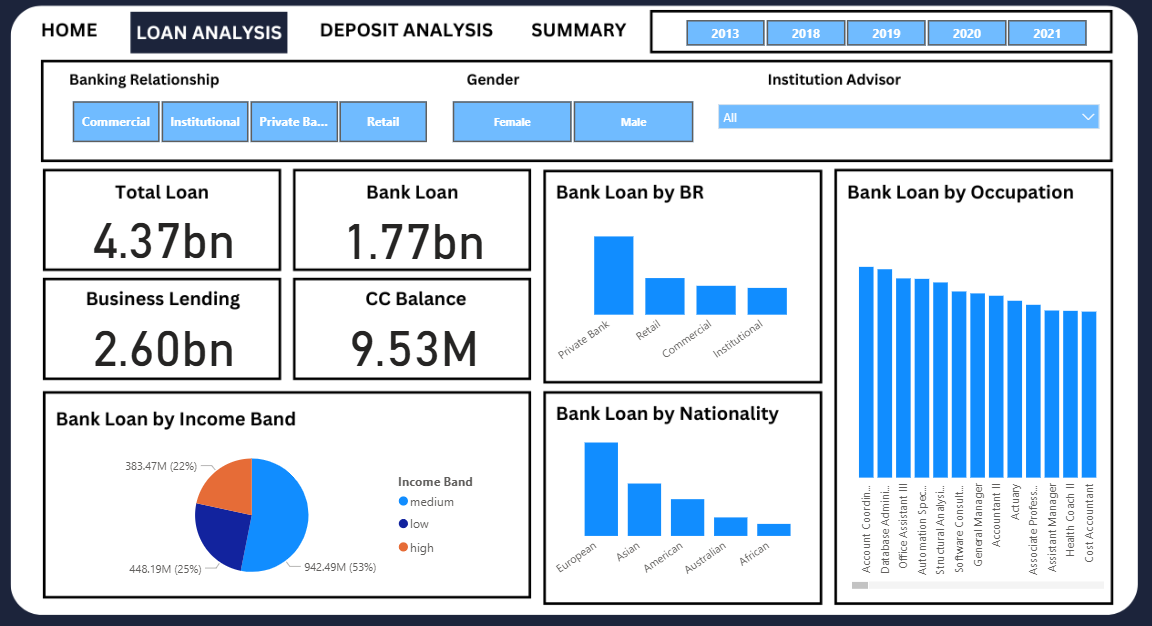

The page's visual inventory and layout, read from the dashboard file:
{"tool":"powerbi","page":{"name":"LOAN ANALYSIS","canvas":[1280,720],"ordinal":1},"visuals":[{"type":"slicer","fields":{"Values":["banking_case customer.YEAR OF JOINING"]},"box":[738.3,30.2,489.9,39.8],"z":0},{"type":"slicer","fields":{"Values":["banking_case customer.BRId"]},"box":[64.5,119.4,439.1,59],"z":1},{"type":"slicer","fields":{"Values":["banking_case customer.GenderId"]},"box":[481.6,119.4,314.2,59],"z":2},{"type":"slicer","fields":{"Values":["banking_case customer.IAId"]},"box":[789,119.4,439.1,59],"z":3},{"type":"card","fields":{"Values":["banking_case customer.Total Loan"]},"box":[81,240.1,219.6,64.5],"z":4},{"type":"card","fields":{"Values":["Sum(banking_case customer.Bank Loans)"]},"box":[355.4,241.5,219.6,64.5],"z":5},{"type":"card","fields":{"Values":["Sum(banking_case customer.Business Lending)"]},"box":[81,359.5,219.6,64.5],"z":6},{"type":"card","fields":{"Values":["Sum(banking_case customer.Credit Card Balance)"]},"box":[355.4,359.5,219.6,64.5],"z":7},{"type":"clusteredColumnChart","fields":{"Y":["Sum(banking_case customer.Bank Loans)"],"Category":["banking_case customer.BRId"]},"box":[612,241.5,292.3,182.5],"z":8},{"type":"clusteredColumnChart","fields":{"Y":["Sum(banking_case customer.Bank Loans)"],"Category":["banking_case customer.Nationality"]},"box":[612,484.4,292.3,182.5],"z":9},{"type":"clusteredColumnChart","fields":{"Y":["Sum(banking_case customer.Bank Loans)"],"Category":["banking_case customer.Occupation"]},"box":[940,259.3,288.2,407.5],"z":10},{"type":"pieChart","fields":{"Y":["Sum(banking_case customer.Bank Loans)"],"Category":["banking_case customer.Income Band"]},"box":[122.1,495.4,430.9,171.5],"z":11},{"type":"actionButton","box":[45.3,30.2,100.2,39.8],"z":12},{"type":"actionButton","box":[155.1,30.2,170.2,39.8],"z":13},{"type":"actionButton","box":[355.4,30.2,197.6,39.8],"z":14},{"type":"actionButton","box":[584.6,30.2,123.5,39.8],"z":15}]}

Visuals, with their boxes on the page's 1280x720 design canvas (x1, y1, x2, y2). These are canvas units, not pixel positions in the 1152x626 screenshot, which may show the page scaled, cropped or inside an application window:
slicer - banking_case customer.YEAR OF JOINING: 738/30/1228/70
slicer - banking_case customer.BRId: 64/119/504/178
slicer - banking_case customer.GenderId: 482/119/796/178
slicer - banking_case customer.IAId: 789/119/1228/178
card - banking_case customer.Total Loan: 81/240/301/305
card - Sum(banking_case customer.Bank Loans): 355/242/575/306
card - Sum(banking_case customer.Business Lending): 81/360/301/424
card - Sum(banking_case customer.Credit Card Balance): 355/360/575/424
clusteredColumnChart - Sum(banking_case customer.Bank Loans) x banking_case customer.BRId: 612/242/904/424
clusteredColumnChart - Sum(banking_case customer.Bank Loans) x banking_case customer.Nationality: 612/484/904/667
clusteredColumnChart - Sum(banking_case customer.Bank Loans) x banking_case customer.Occupation: 940/259/1228/667
pieChart - Sum(banking_case customer.Bank Loans) x banking_case customer.Income Band: 122/495/553/667
actionButton: 45/30/146/70
actionButton: 155/30/325/70
actionButton: 355/30/553/70
actionButton: 585/30/708/70
